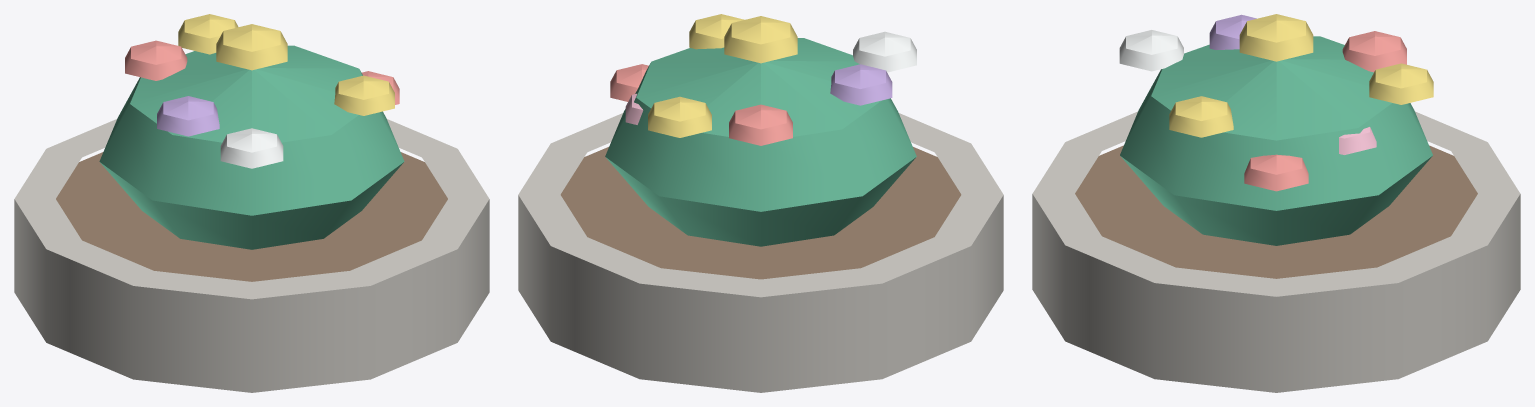
Rendered from gardenFlowerbedRound.glb.
3 views of the same model, side by side, from view 1: azimuth 30°, elevation 25°; view 2: azimuth 150°, elevation 25°; view 3: azimuth 270°, elevation 25° (orthographic). The views are drawn at different scales.
Parts seen in each view (by area): view 1: gardenFlowerbedRound; view 2: gardenFlowerbedRound; view 3: gardenFlowerbedRound.
Part boxes in pixels (<box>): gardenFlowerbedRound: <box>14,14,489,392</box>; gardenFlowerbedRound: <box>518,14,1003,392</box>; gardenFlowerbedRound: <box>1032,14,1520,392</box>.
Size of the model in its own units: 0.46 by 0.28 by 0.46.
